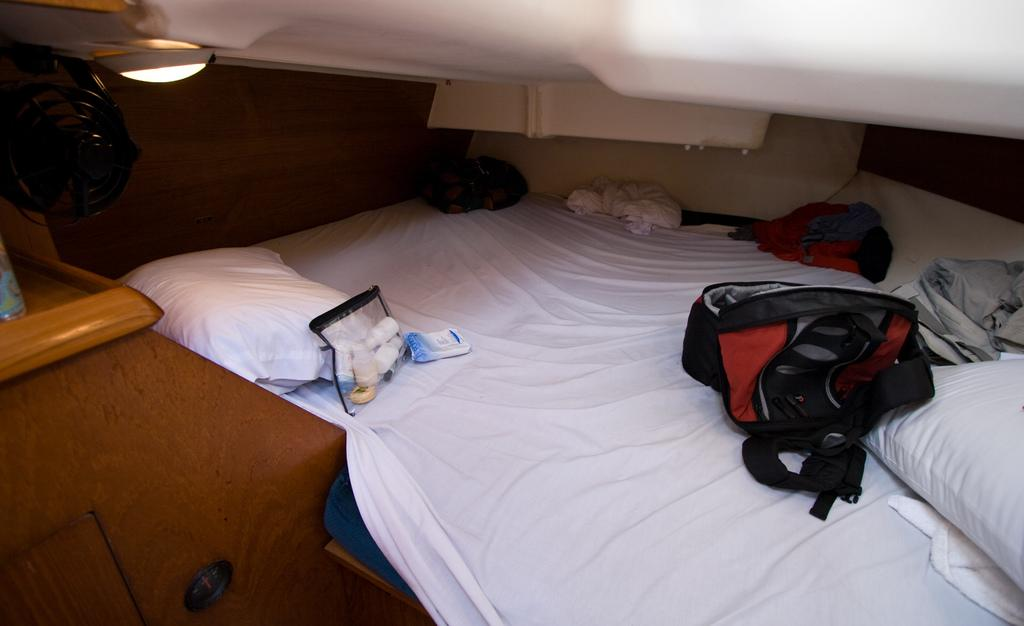Luggage-and-bags: (676, 280, 935, 523)
